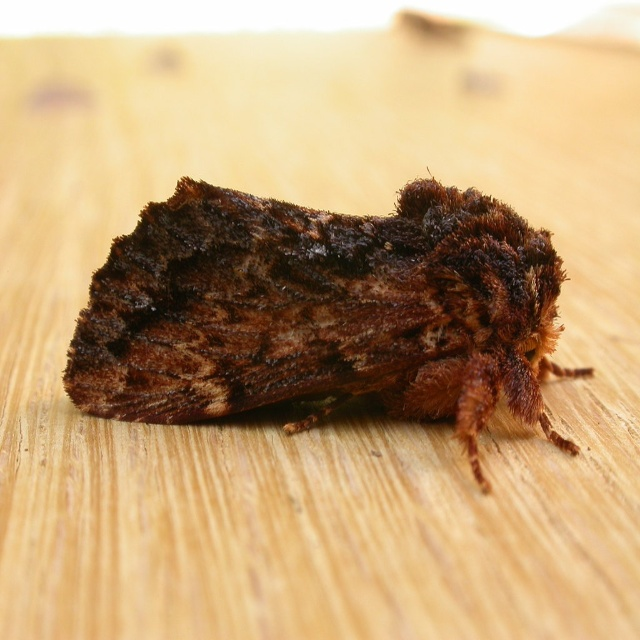Moths and butterflies: (62, 165, 596, 497)
